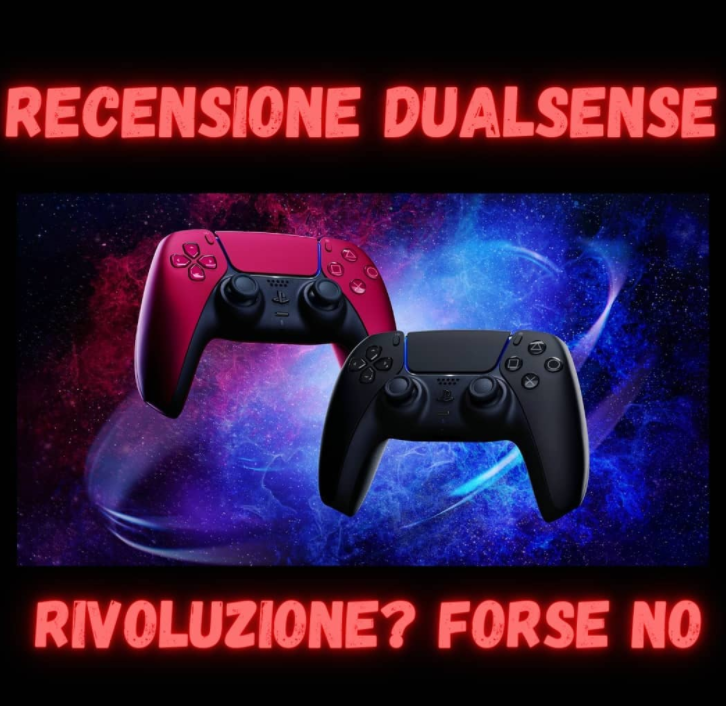gamingconsole: (327, 329, 590, 524), (140, 224, 399, 411)
